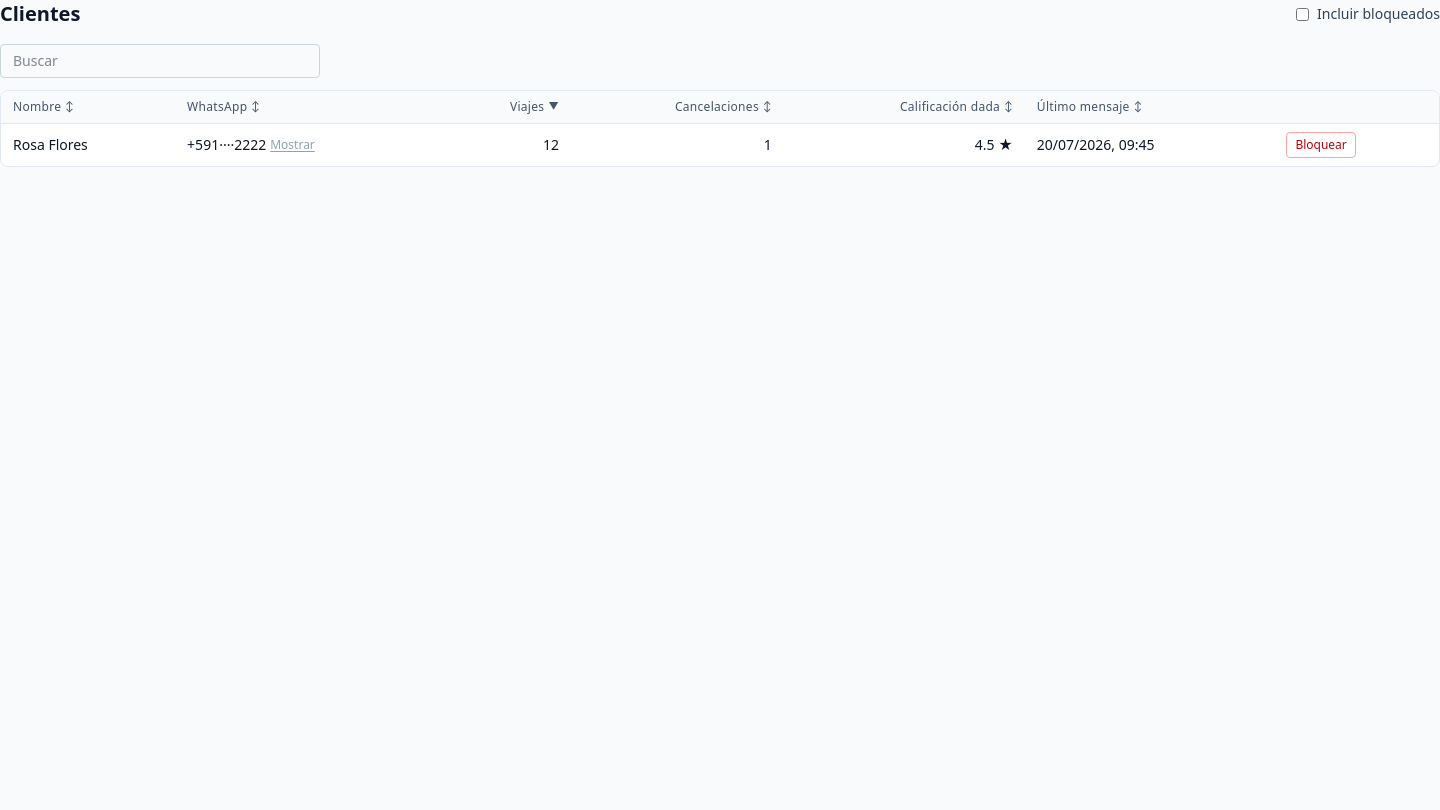
it: bloqueo › desbloquear no pide motivo: no es una acción destructiva
Expected: the table is shown, left=1, top=91, right=1439, bottom=166
Click the checkbox labelled "Incluir bloqueados" at (1303,14), box left=1296, top=8, right=1309, bottom=20
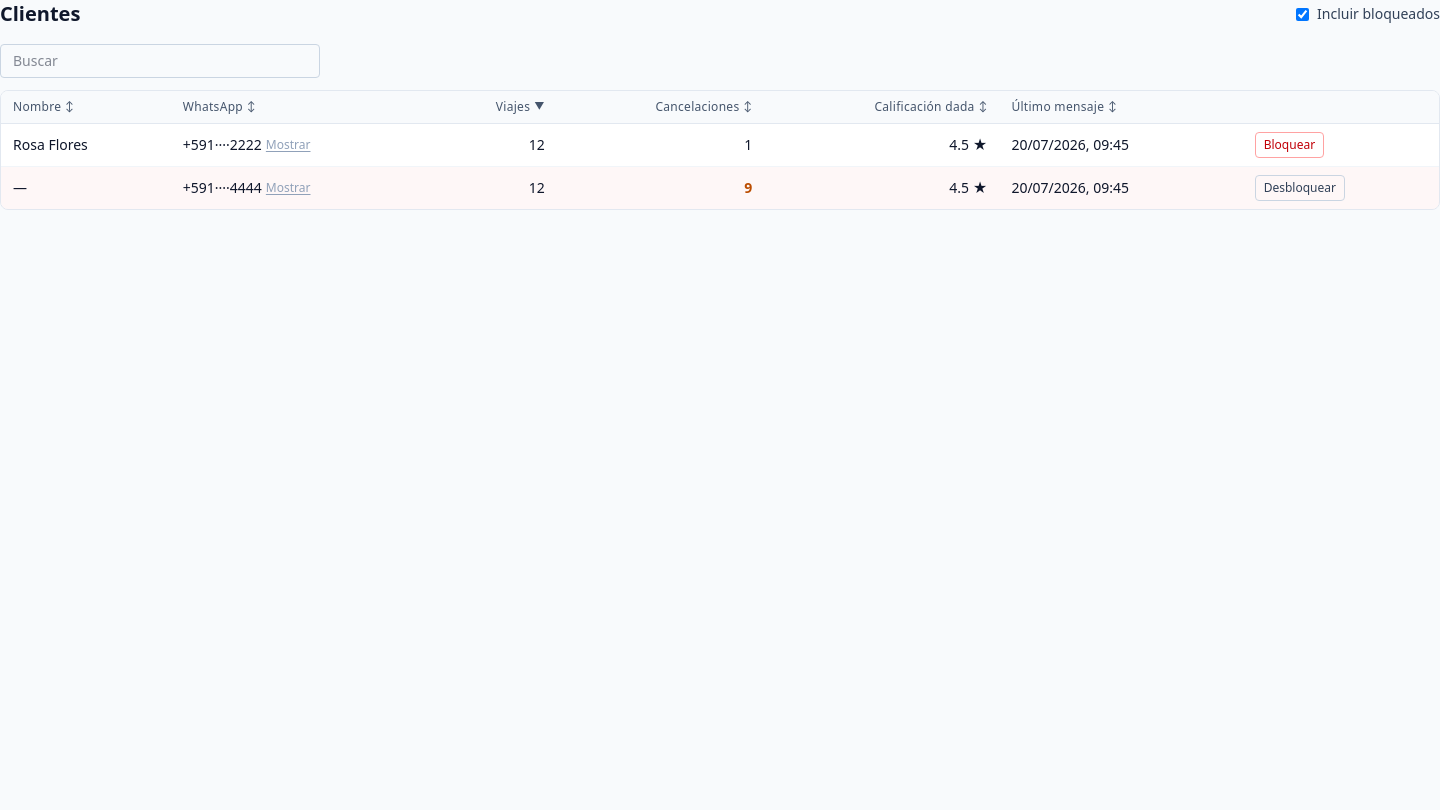
Click the button "Desbloquear" at (1300,188), box left=1255, top=175, right=1345, bottom=201
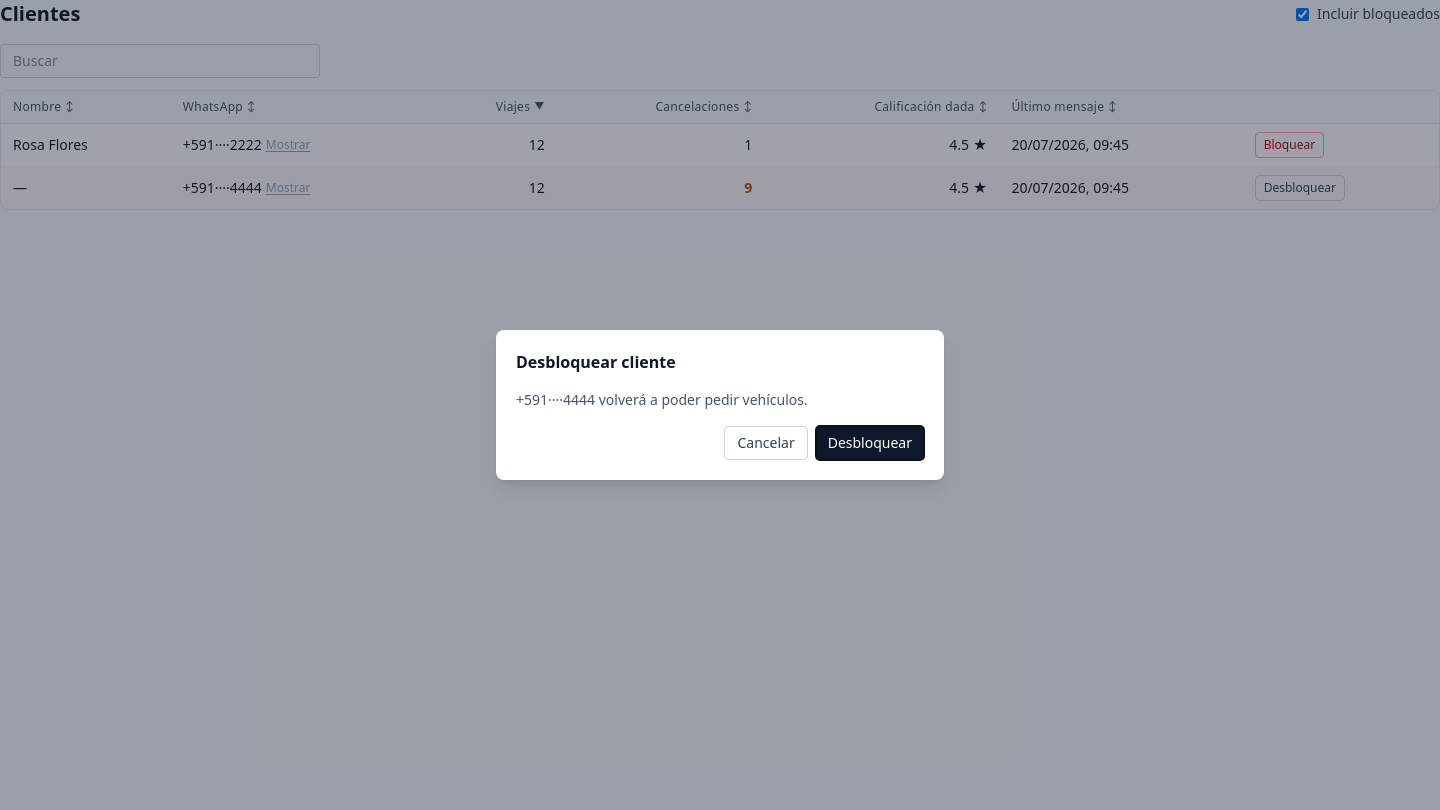
Expected: the dialog is shown, left=496, top=330, right=944, bottom=480
